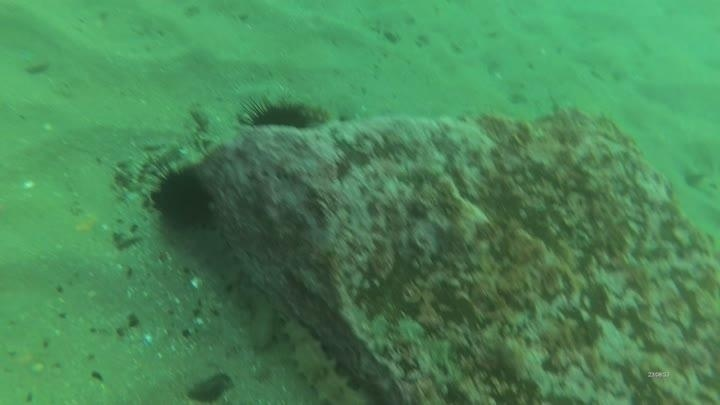echinus: (146, 161, 219, 235), (238, 94, 319, 133)
holothurian: (276, 313, 364, 405), (236, 283, 284, 354)
